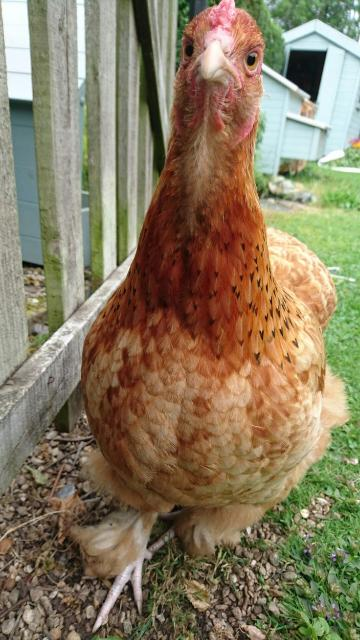Chicken: (69, 0, 349, 628)
